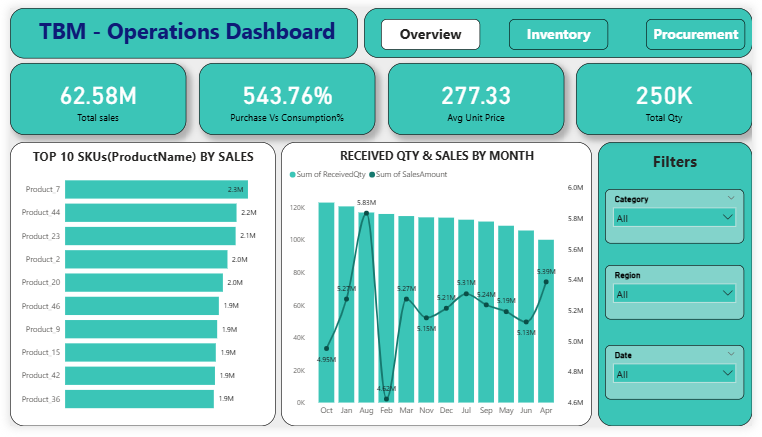

The dashboard page shown, as its layout file describes it:
{"tool":"powerbi","page":{"name":"Overview","canvas":[1280,720],"ordinal":0},"visuals":[{"type":"shape","box":[0,0,600.1,86.7],"z":0},{"type":"shape","box":[610.6,0,669.6,86.4],"z":1000},{"type":"shape","box":[1013.8,230.4,266.4,489.6],"z":2000},{"type":"card","fields":{"Values":["Measure Table.Purchase Vs Consumption%"]},"box":[325.4,95,303.8,123.8],"z":3000},{"type":"card","fields":{"Values":["Measure Table.Total sales"]},"box":[0,95,303.8,123.8],"z":4000},{"type":"card","fields":{"Values":["Measure Table.Total Qty"]},"box":[976.2,95,303.8,123.8],"z":5000},{"type":"card","fields":{"Values":["Measure Table.Avg Unit Price"]},"box":[650.9,95,303.8,123.8],"z":6000},{"type":"lineClusteredColumnComboChart","title":"RECEIVED QTY & SALES BY MONTH","fields":{"Y2":["Sum(FactSales.SalesAmount)"],"Category":["DimDate.MonthName"],"Y":["Sum(FactInventory.ReceivedQty)"]},"box":[468,230.4,535.7,489.6],"z":7000},{"type":"barChart","title":"TOP 10 SKUs(ProductName) BY SALES","fields":{"Y":["Sum(FactSales.SalesAmount)"],"Category":["DimProduct.ProductName"]},"box":[0,230.4,457.9,489.6],"z":8000},{"type":"slicer","fields":{"Values":["DimProduct.Category"]},"box":[1026.7,312.5,240.5,93.6],"z":9000},{"type":"slicer","fields":{"Values":["DimCustomer.Region"]},"box":[1026.7,443.5,240.5,93.6],"z":10000},{"type":"textbox","box":[1098.7,240.5,96.5,46.1],"z":11000},{"type":"textbox","box":[639.4,18.7,171,53.3],"z":12000},{"type":"textbox","box":[859.7,18.7,171.4,53.3],"z":13000},{"type":"textbox","box":[1095.8,18.7,171.4,53.3],"z":14000},{"type":"actionButton","box":[1103,23,157,46.1],"z":15000},{"type":"actionButton","box":[866.9,23,157,46.1],"z":16000},{"type":"textbox","box":[18.3,9.2,562.9,72],"z":17000},{"type":"slicer","fields":{"Values":["DimDate.Date"]},"box":[1026.7,580.3,240.5,93.6],"z":18000}]}

Visuals, with their boxes in screenshot pixels (x1, y1, x2, y2), scaled from the page's 1280x720 canvas onto the 762x437 screenshot:
shape: <box>0,0,357,53</box>
shape: <box>363,0,761,52</box>
shape: <box>604,140,761,436</box>
card - Measure Table.Purchase Vs Consumption%: <box>194,58,375,133</box>
card - Measure Table.Total sales: <box>0,58,181,133</box>
card - Measure Table.Total Qty: <box>581,58,761,133</box>
card - Measure Table.Avg Unit Price: <box>387,58,568,133</box>
"RECEIVED QTY & SALES BY MONTH" lineClusteredColumnComboChart: <box>279,140,598,436</box>
"TOP 10 SKUs(ProductName) BY SALES" barChart: <box>0,140,273,436</box>
slicer - DimProduct.Category: <box>611,190,754,246</box>
slicer - DimCustomer.Region: <box>611,269,754,326</box>
textbox: <box>654,146,712,174</box>
textbox: <box>381,11,482,44</box>
textbox: <box>512,11,614,44</box>
textbox: <box>652,11,754,44</box>
actionButton: <box>657,14,750,42</box>
actionButton: <box>516,14,610,42</box>
textbox: <box>11,6,346,49</box>
slicer - DimDate.Date: <box>611,352,754,409</box>
